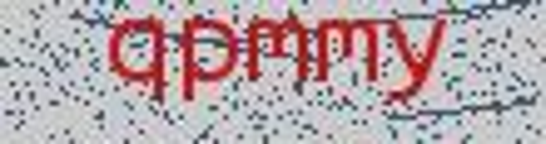m: (314, 10, 384, 89), (244, 8, 311, 90)
p: (176, 9, 238, 109)
q: (99, 9, 173, 114)
y: (385, 12, 453, 107)
